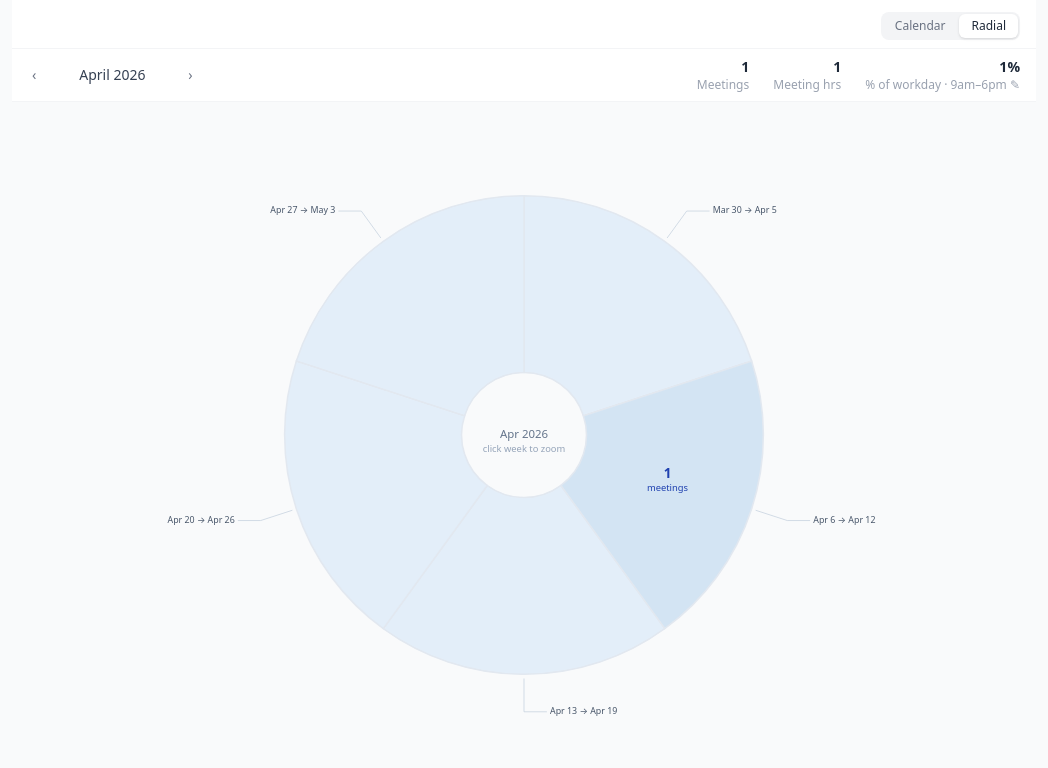
Test: CalendarView › renders time range toggle (Week / Month) in calendar display mode
Note: Time toggle is hidden in radial mode — switch to calendar first
Click the button with test id "display-toggle-calendar": coordinates (920, 26) [883,14,958,38]
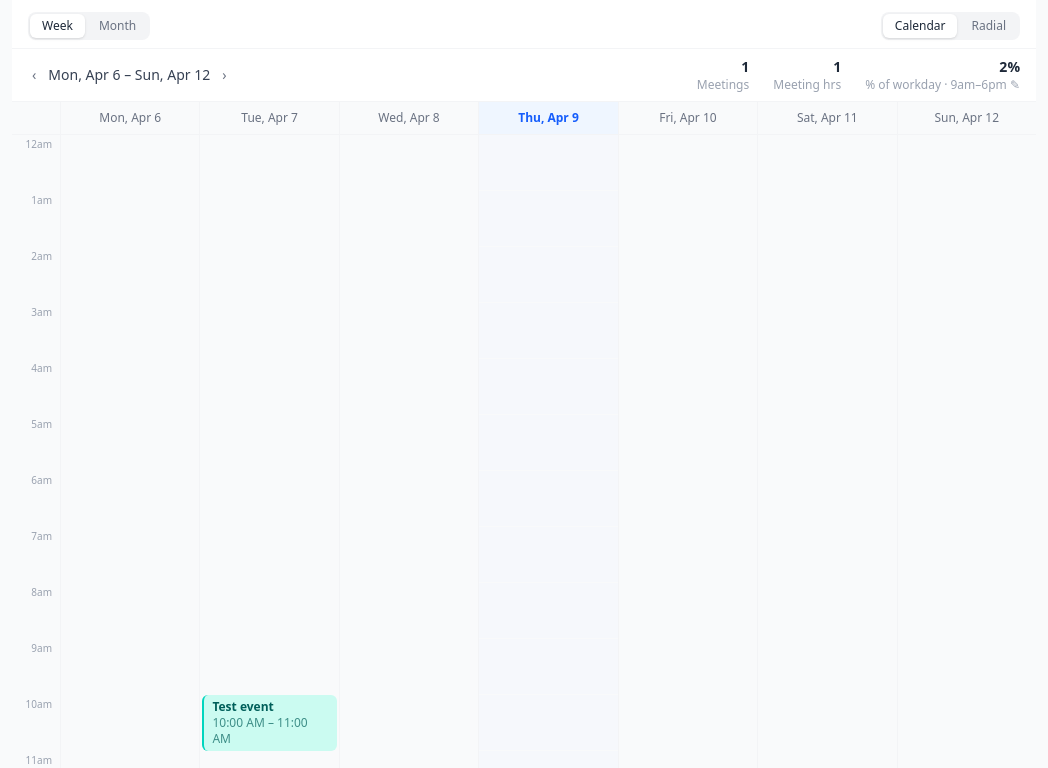
Expected: the button with test id "time-toggle-week" is shown, [30,14,85,38]
Expected: the button with test id "time-toggle-month" is shown, [87,14,148,38]
